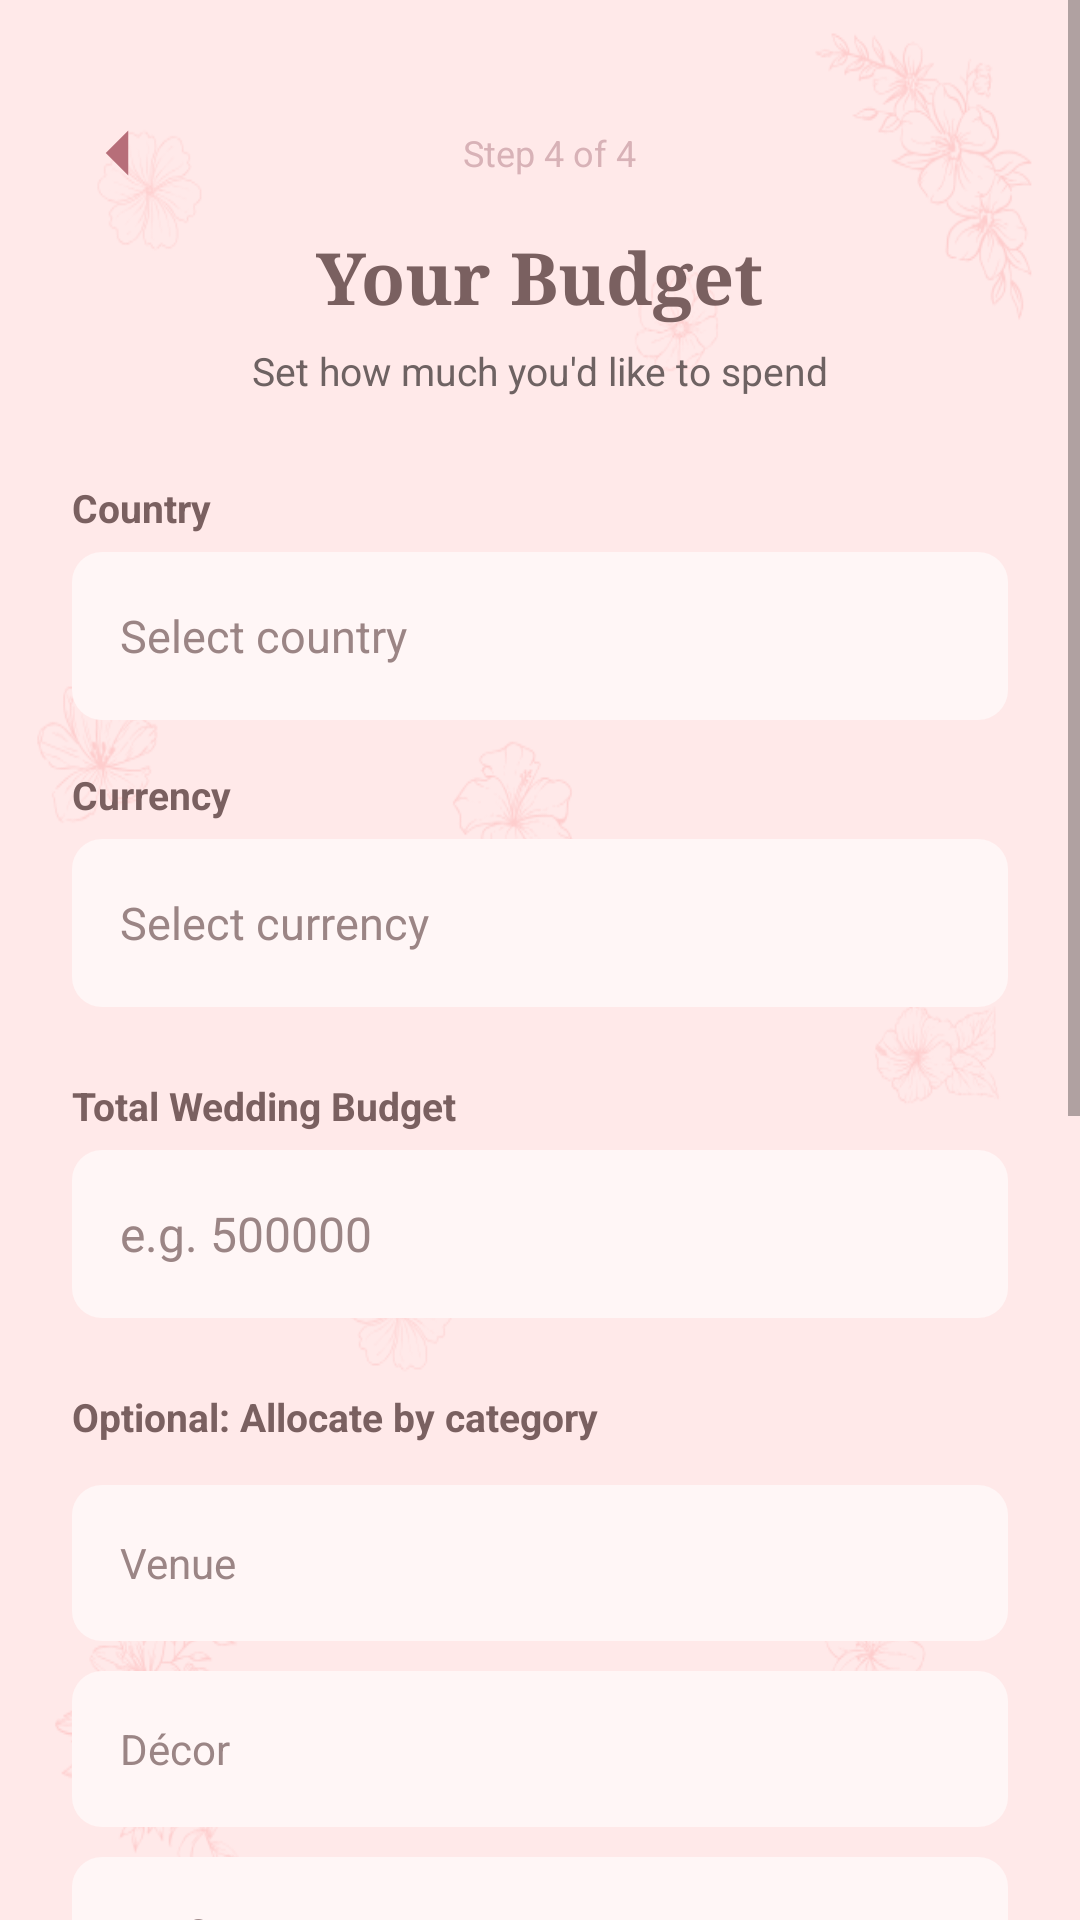

Named icons in this screenshot (1080x1920) and their bounding boxes, [x1,y1,x2,y2]:
Back: [106,131,129,175]
